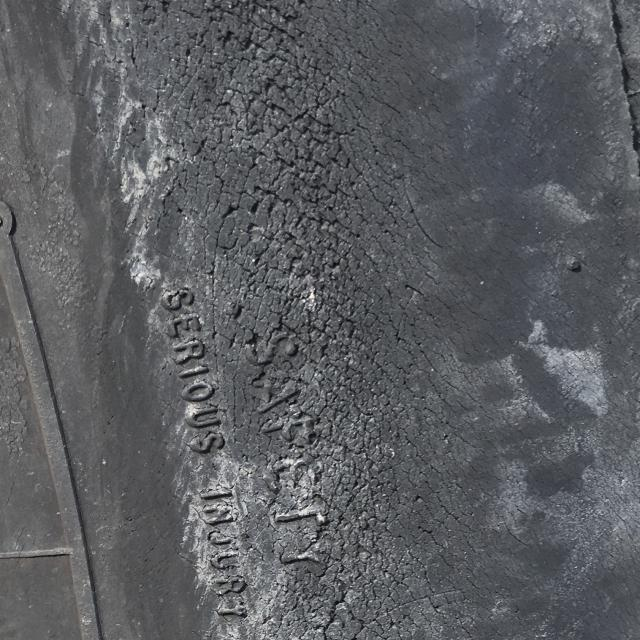Cracks: (59, 0, 524, 640), (591, 0, 640, 180)
